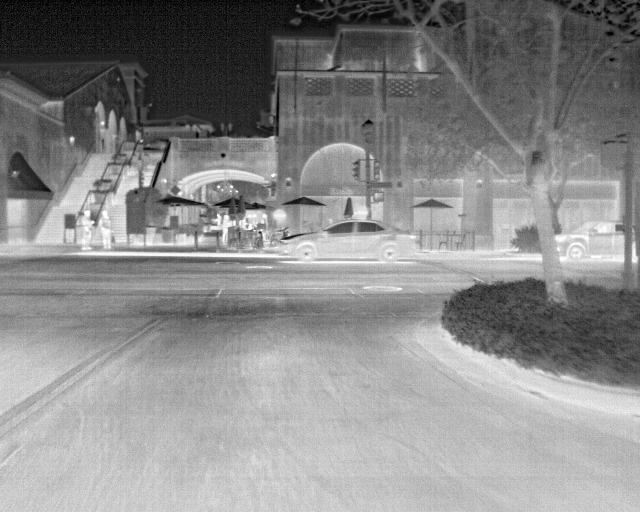bicycle: (278, 217, 418, 263), (550, 218, 621, 262)
empty: (77, 210, 96, 253), (99, 209, 115, 252), (219, 214, 233, 245)
